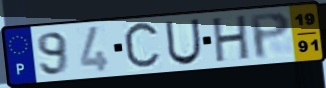4: (78, 24, 112, 75)
9: (35, 31, 71, 77)
C: (122, 19, 164, 73)
H: (212, 13, 252, 65)
P: (247, 10, 293, 61)
U: (163, 17, 204, 67)
